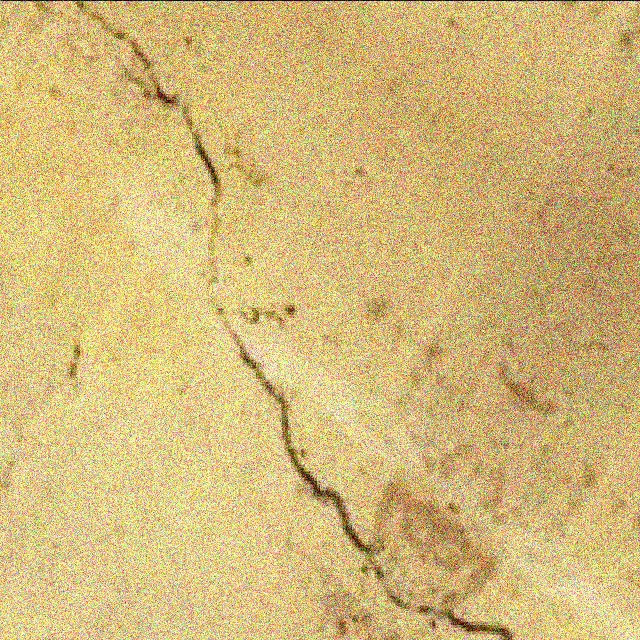SurfaceCrack: (48, 0, 502, 640)
